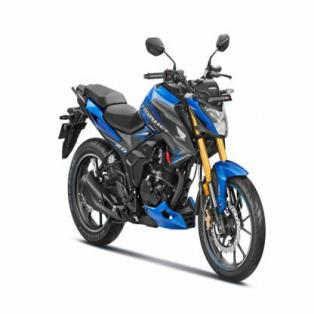Motocicleta: (54, 28, 270, 288)
